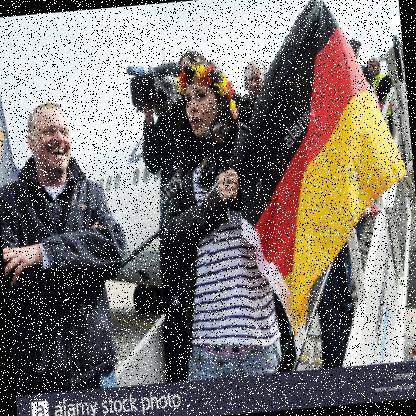de: (200, 1, 416, 346), (186, 61, 216, 87)
